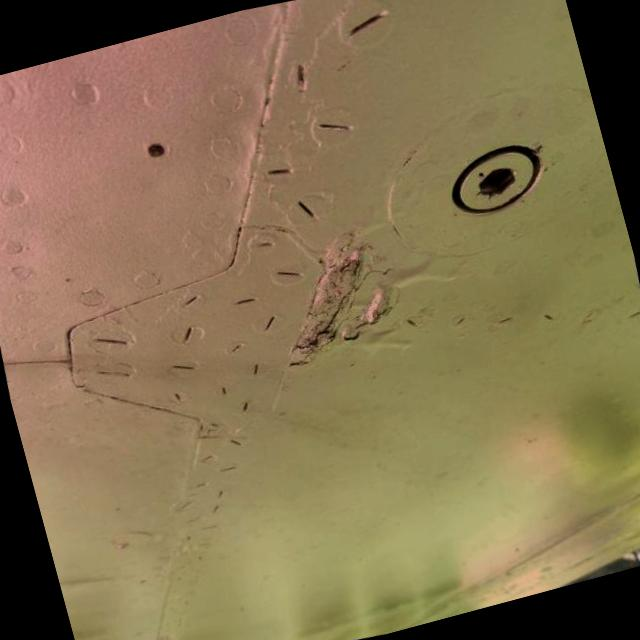Missing Fastener: (134, 126, 177, 166)
